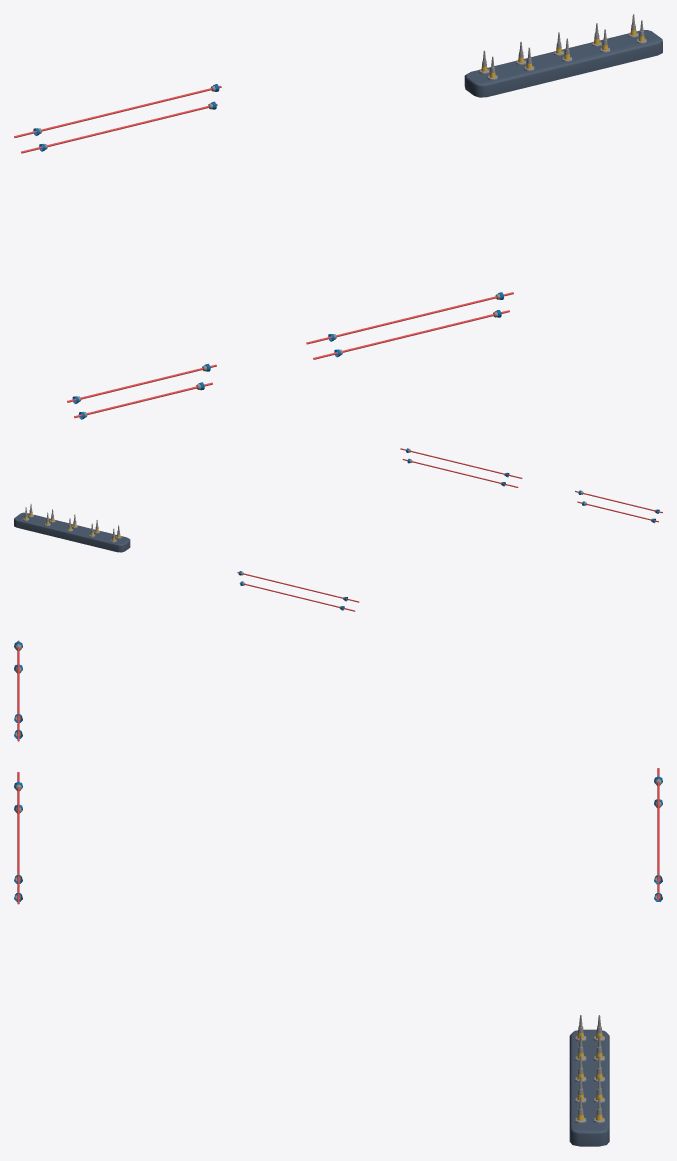
File: LaserSpike.fbx
3 renders of one model, top to bottom at view 1: azimuth 30°, elevation 25°; view 2: azimuth 150°, elevation 25°; view 3: azimuth 270°, elevation 25°, orthographic. The views are drawn at different scales.
Parts seen in each view (by area): view 1: Spikes, Lasers1, Lasers2, Lasers3; view 2: Spikes, Lasers1, Lasers2, Lasers3; view 3: Spikes.
Boxes of the visible parts, x1,y1,x2,y2 form: Spikes: [464, 14, 662, 97]; Lasers1: [14, 84, 221, 153]; Lasers2: [306, 292, 513, 359]; Lasers3: [67, 363, 216, 419]; Spikes: [14, 504, 130, 552]; Lasers1: [237, 571, 359, 611]; Lasers2: [400, 448, 522, 487]; Lasers3: [575, 490, 662, 523]; Spikes: [569, 1015, 609, 1146].
Bounding box in the file's own units: 4526 × 208 × 2680.
